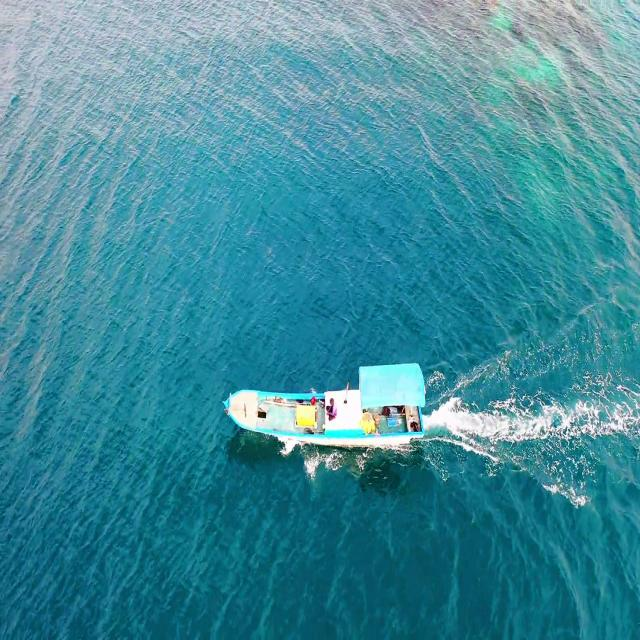ship: (218, 354, 436, 466)
